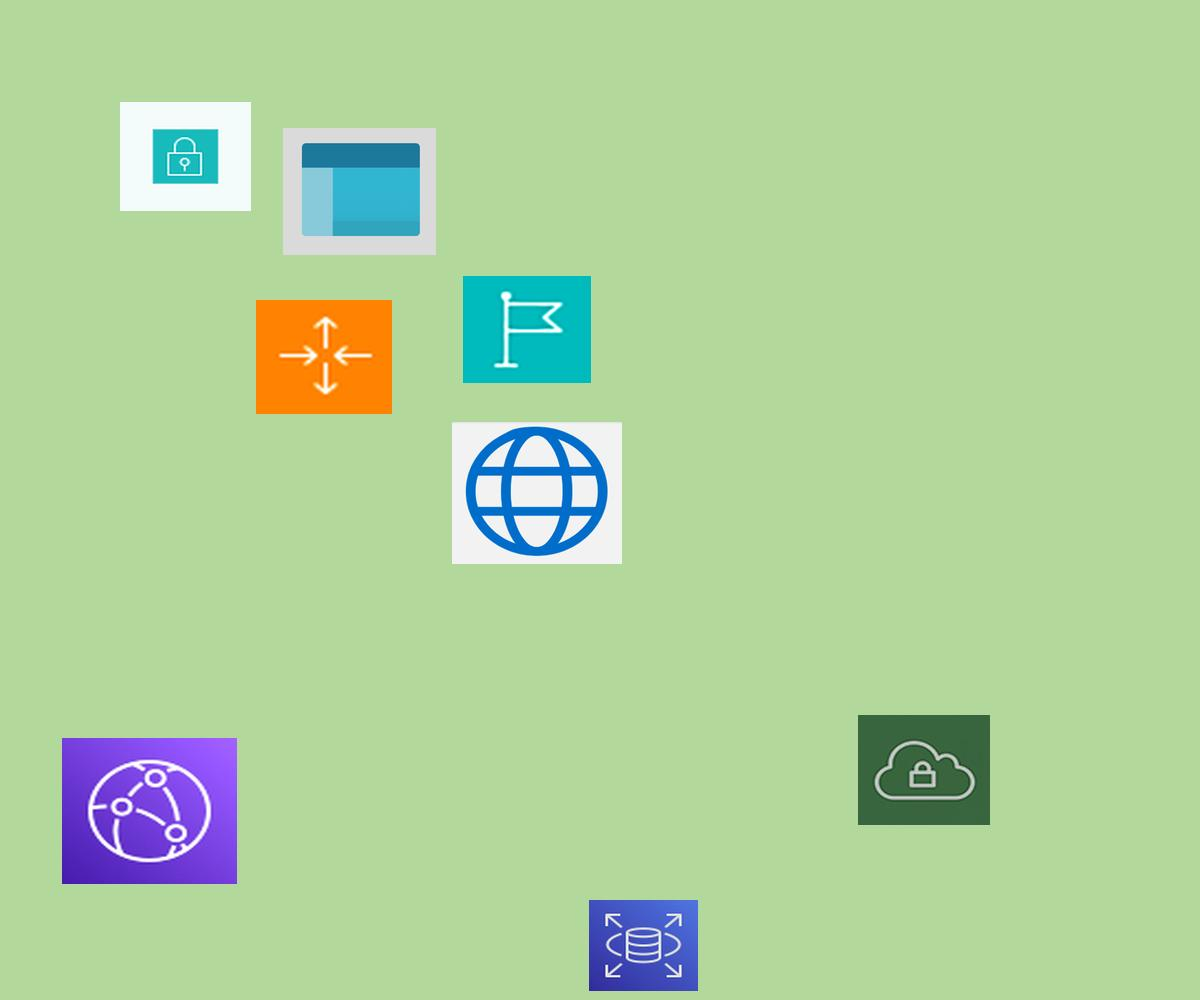AWS-CloudFront: (62, 738, 237, 884)
AWS-Private-subnet: (120, 102, 251, 211)
AWS-Private_vpc: (858, 715, 990, 825)
AWS-RDS: (589, 900, 698, 991)
AWS-Region: (463, 276, 591, 383)
AWS-Scaling-group: (256, 300, 392, 414)
Azure_http: (452, 422, 622, 564)
Azure_management-portal: (283, 128, 436, 255)
